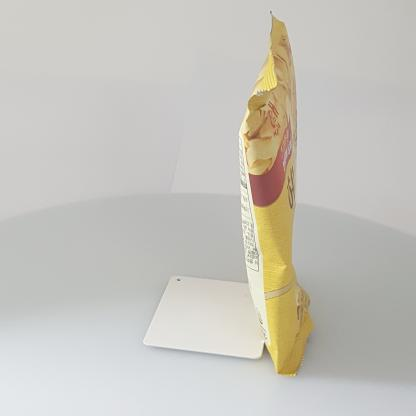Plastic Packaging: (229, 4, 327, 384)
